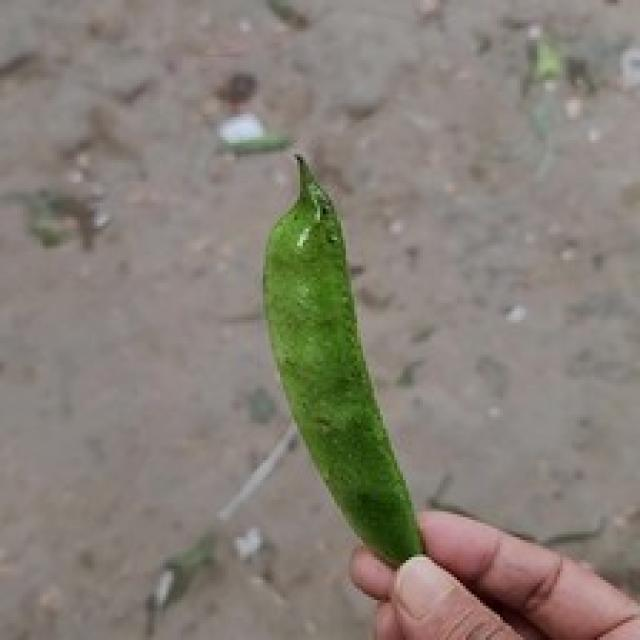Bean: (260, 152, 426, 568)
